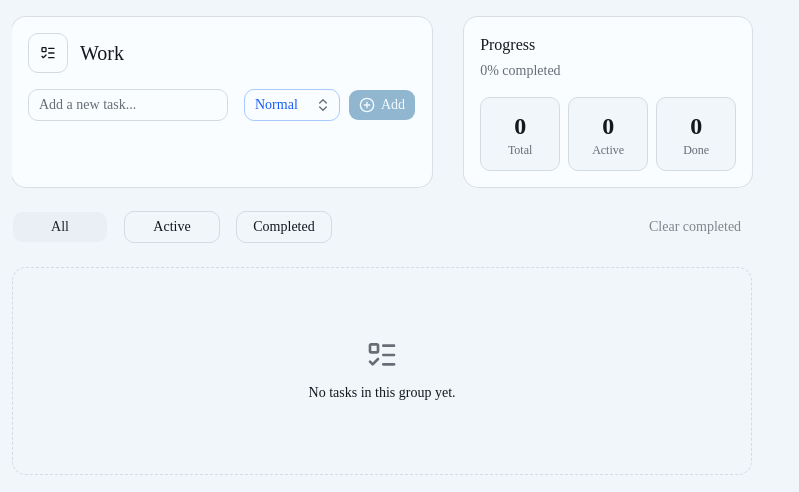
Test: TodoPage interactions › blocks duplicate creation while pending, then displays the new task and clears the input
Expected: the text "No tasks in this group yet." is shown, top-left (309, 383), bottom-right (456, 403)
Type "New task" into the field named "Todo title" at x=128, y=105, box top-left (28, 89), bottom-right (228, 121)
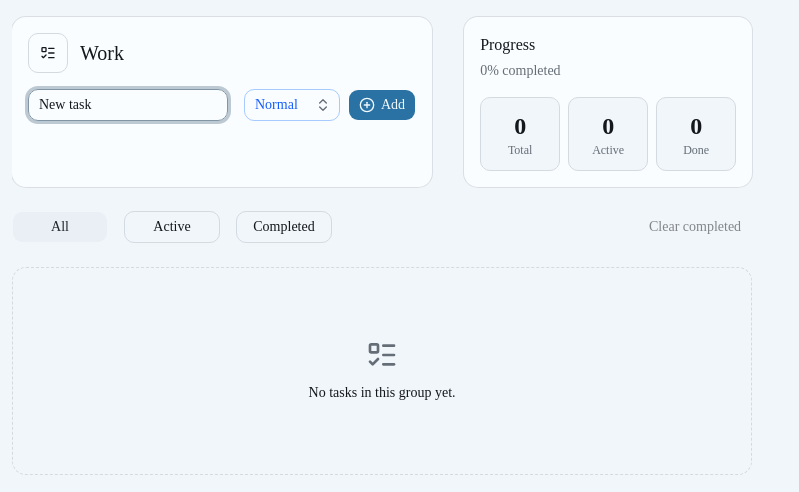
Click the button "Add" at x=382, y=105, box top-left (348, 89), bottom-right (416, 121)
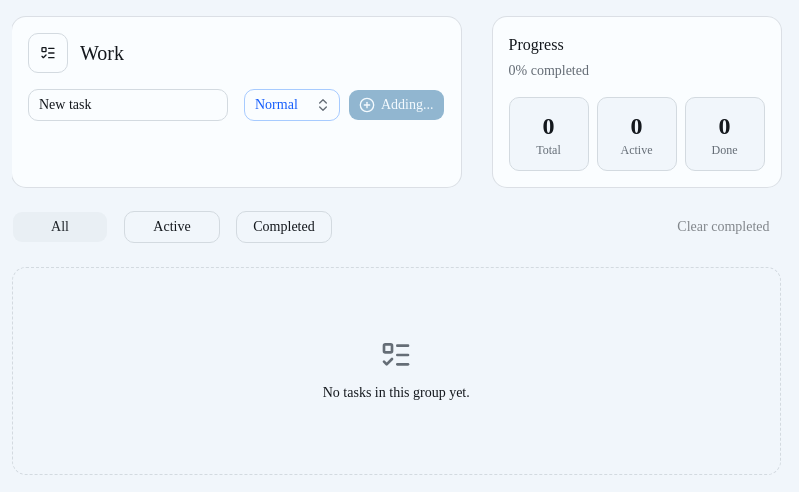
Now the button "Adding..." is disabled
Click the button "Adding..." at x=396, y=105, box top-left (348, 89), bottom-right (444, 121)
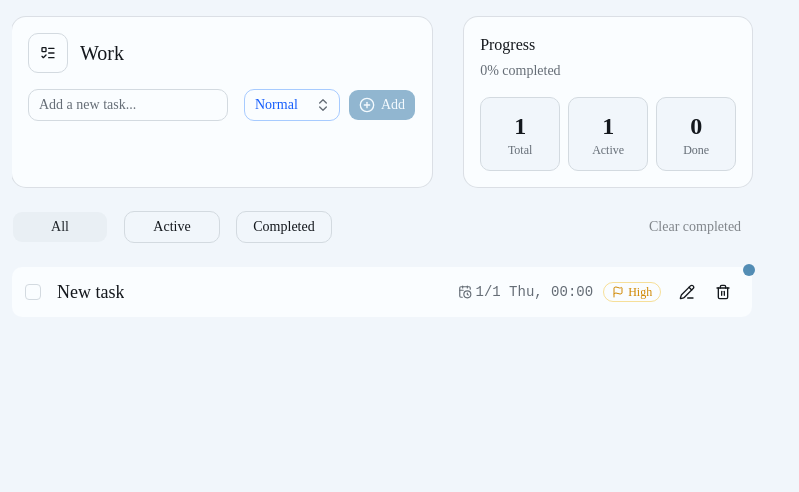
Now the text "New task" is shown, box top-left (57, 278), bottom-right (124, 306)
Now the field named "Todo title" is empty, box top-left (28, 89), bottom-right (228, 121)
